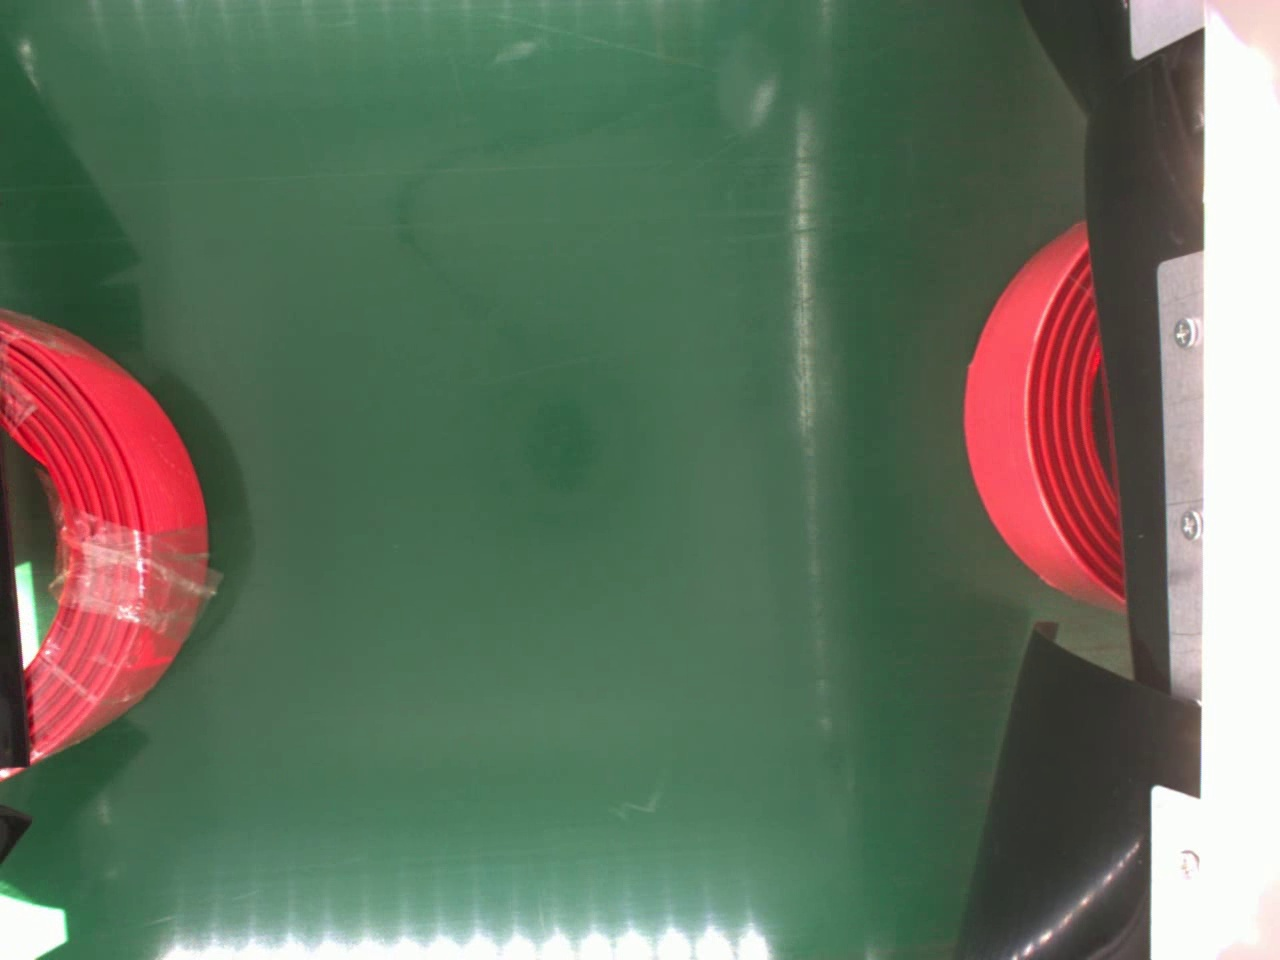red: (0, 303, 212, 777), (959, 211, 1128, 619)
